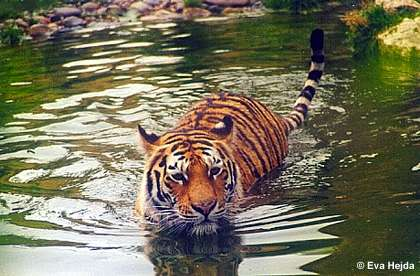Tigre: (128, 52, 308, 225)
